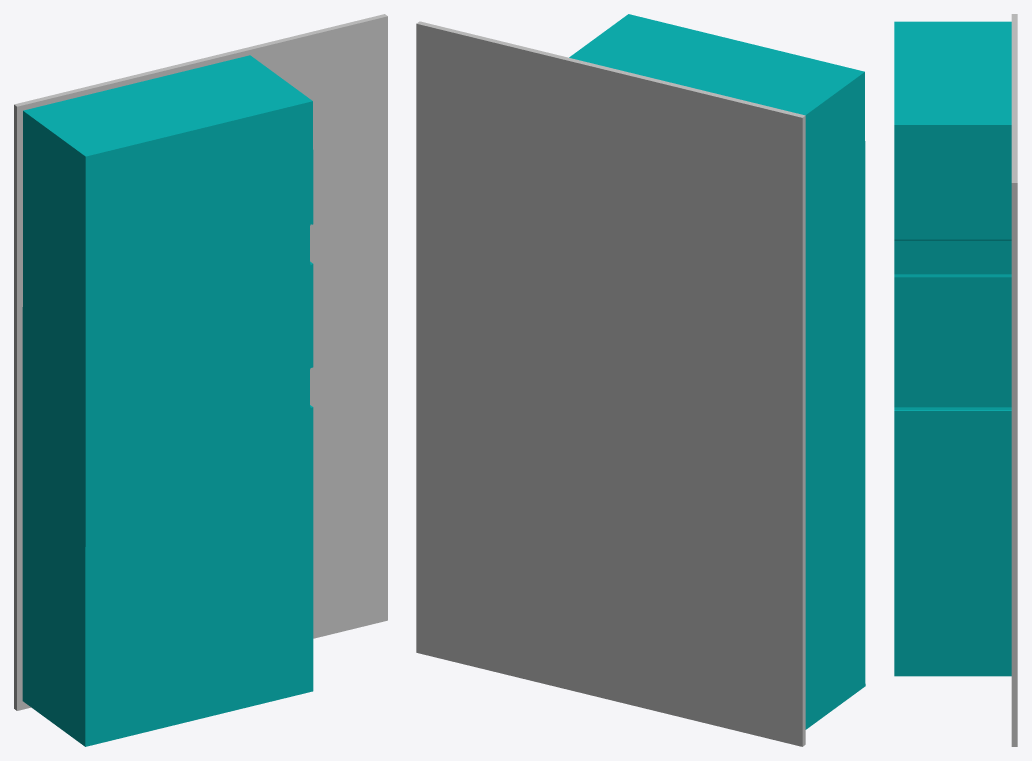
3 renders of one model, left to right at view 1: azimuth 30°, elevation 25°; view 2: azimuth 150°, elevation 25°; view 3: azimuth 270°, elevation 25°, orthographic. The views are drawn at different scales.
Visible parts, largest first — view 1: world; view 2: world; view 3: world.
Part boxes in pixels (x1,y1,x2,y2): world: (14, 14, 387, 746); world: (416, 14, 865, 746); world: (894, 14, 1017, 746).
Bounding box in the file's own units: 10.23 × 15.93 × 3.15.
